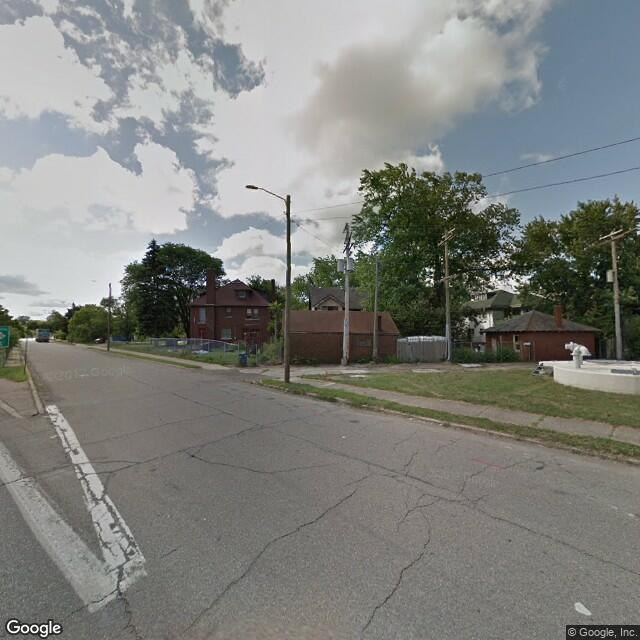litter: (404, 417, 447, 423)
